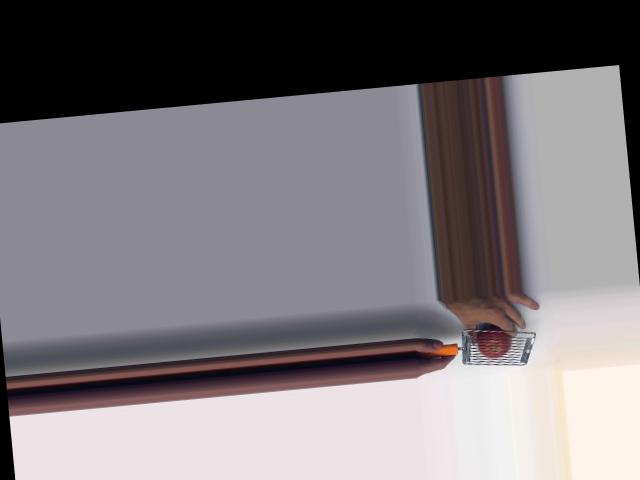tomato: (474, 324, 511, 359)
